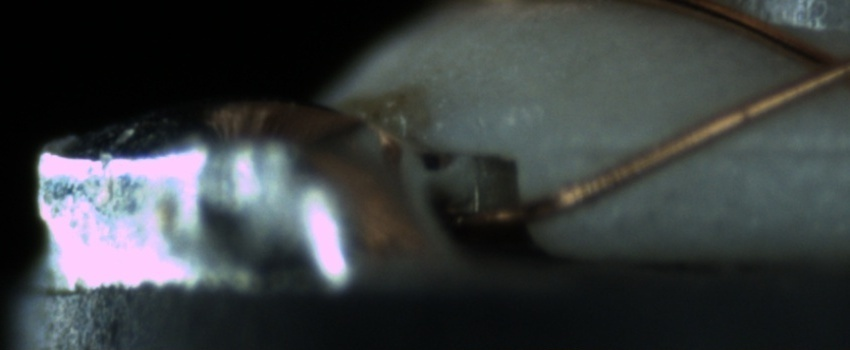CL: (776, 31, 849, 99)
DL: (563, 116, 850, 179)
